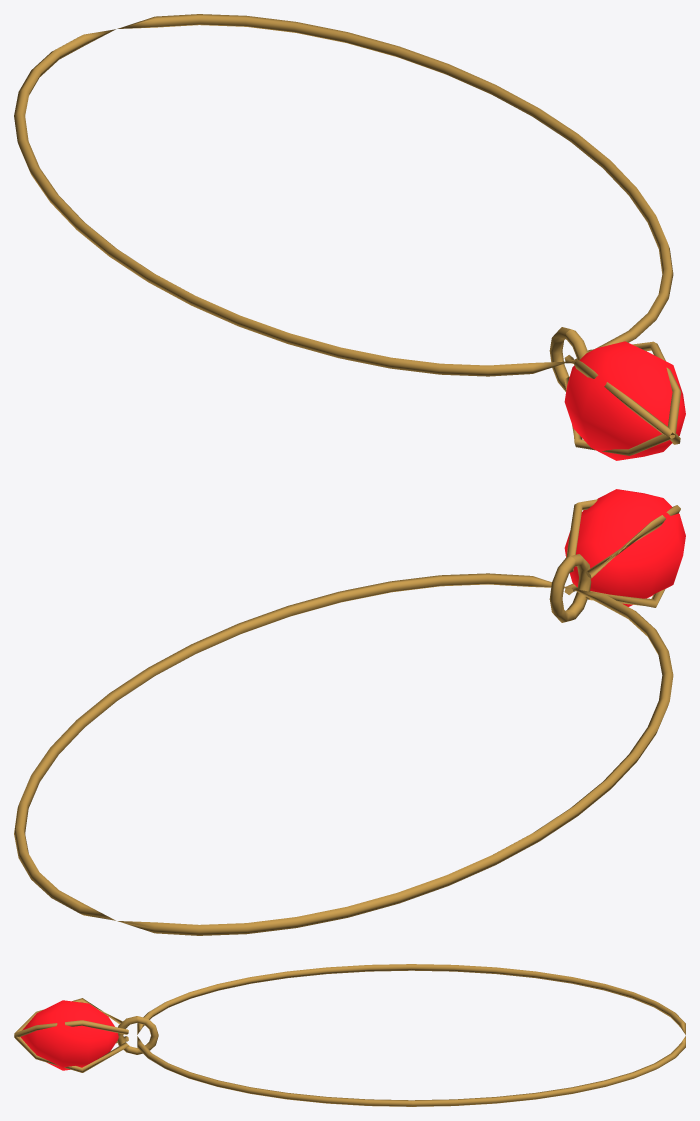
The model's file is amulet_vital.glb.
The picture shows the model from 3 angles, top to bottom: view 1: azimuth 30°, elevation 25°; view 2: azimuth 150°, elevation 25°; view 3: azimuth 270°, elevation 25°; orthographic projection. The views are drawn at different scales.
Visible parts, largest first — view 1: Amulet_Vital_Brass, Amulet_Vital_Gem_vital; view 2: Amulet_Vital_Brass, Amulet_Vital_Gem_vital; view 3: Amulet_Vital_Brass, Amulet_Vital_Gem_vital.
Part boxes in pixels (<box>): Amulet_Vital_Brass: <box>14,14,680,455</box>; Amulet_Vital_Gem_vital: <box>564,341,685,460</box>; Amulet_Vital_Brass: <box>14,499,680,935</box>; Amulet_Vital_Gem_vital: <box>564,489,685,606</box>; Amulet_Vital_Brass: <box>14,964,685,1106</box>; Amulet_Vital_Gem_vital: <box>20,1000,118,1070</box>.
Size of the model in its own units: 0.1021 by 0.0209 by 0.2082.
